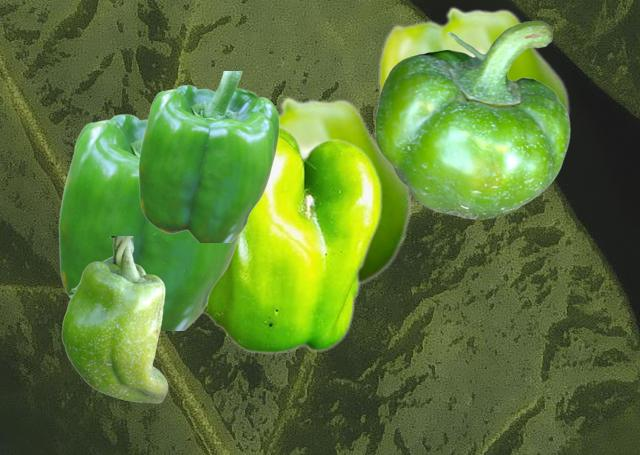bell_pepper: (202, 122, 381, 353), (58, 113, 239, 329), (375, 20, 569, 218), (277, 96, 411, 287), (138, 71, 278, 241), (378, 6, 569, 115), (61, 236, 167, 402)
